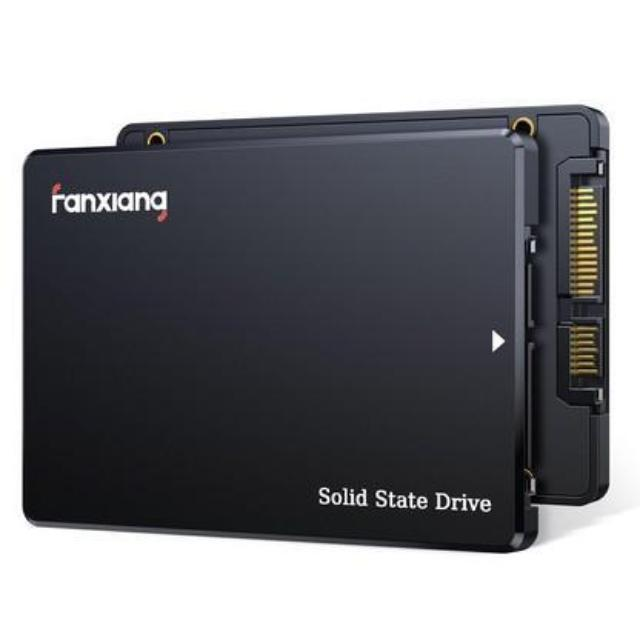DISK: (12, 92, 617, 570)
